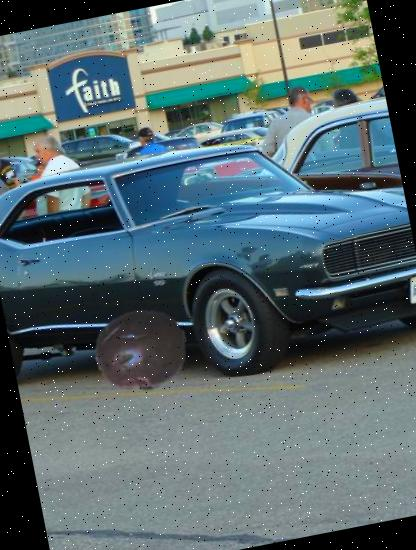Passion: (84, 294, 195, 406)
